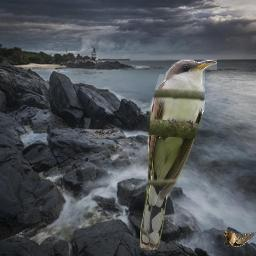Cuckoo: (140, 59, 217, 250)
Swallow: (222, 230, 256, 248)
